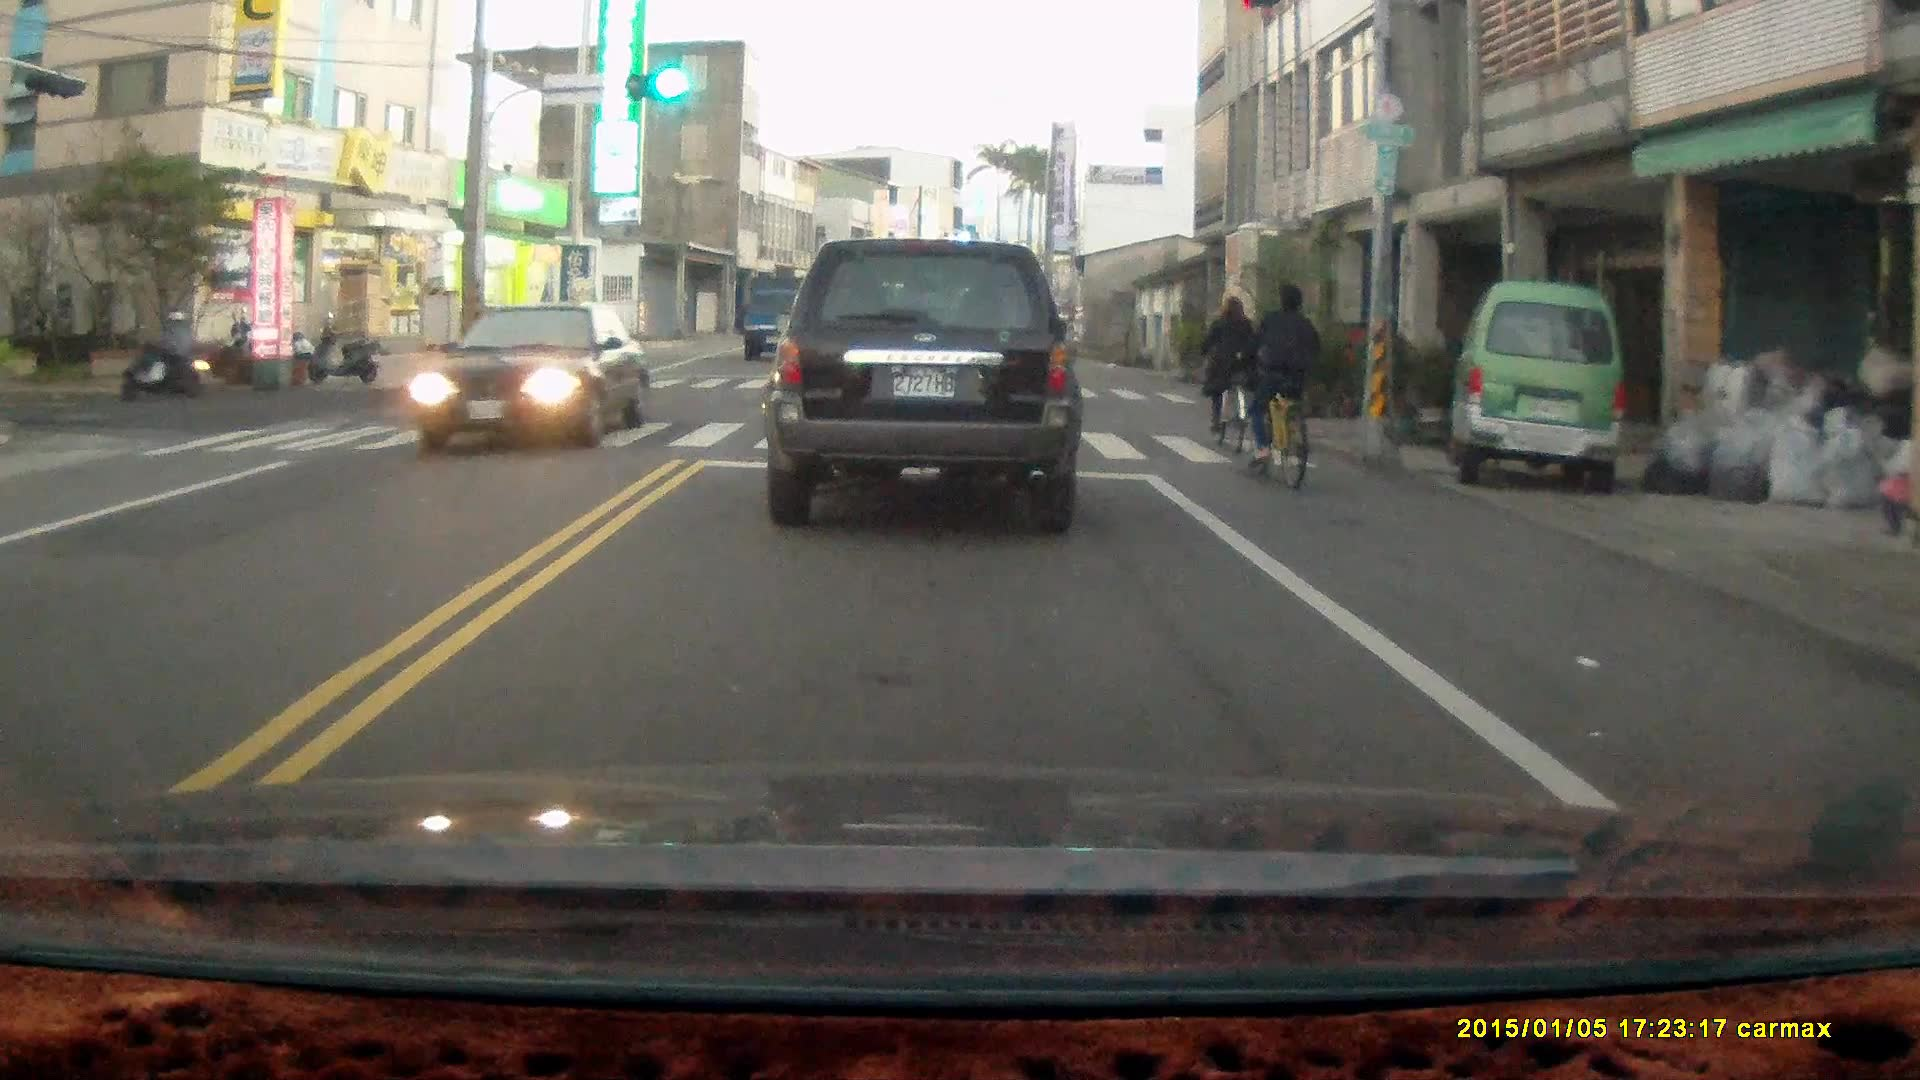rider: (1238, 280, 1321, 489), (1194, 292, 1255, 457), (117, 306, 206, 398)
vehicle: (762, 237, 1083, 535), (1450, 285, 1632, 496), (414, 301, 654, 456), (735, 275, 826, 362)
